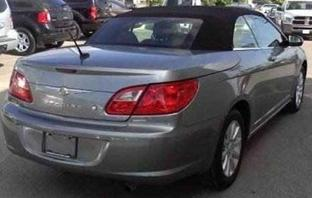back_view: (8, 65, 180, 172)
backlight: (107, 77, 199, 110)
side_glass: (231, 12, 297, 52)
